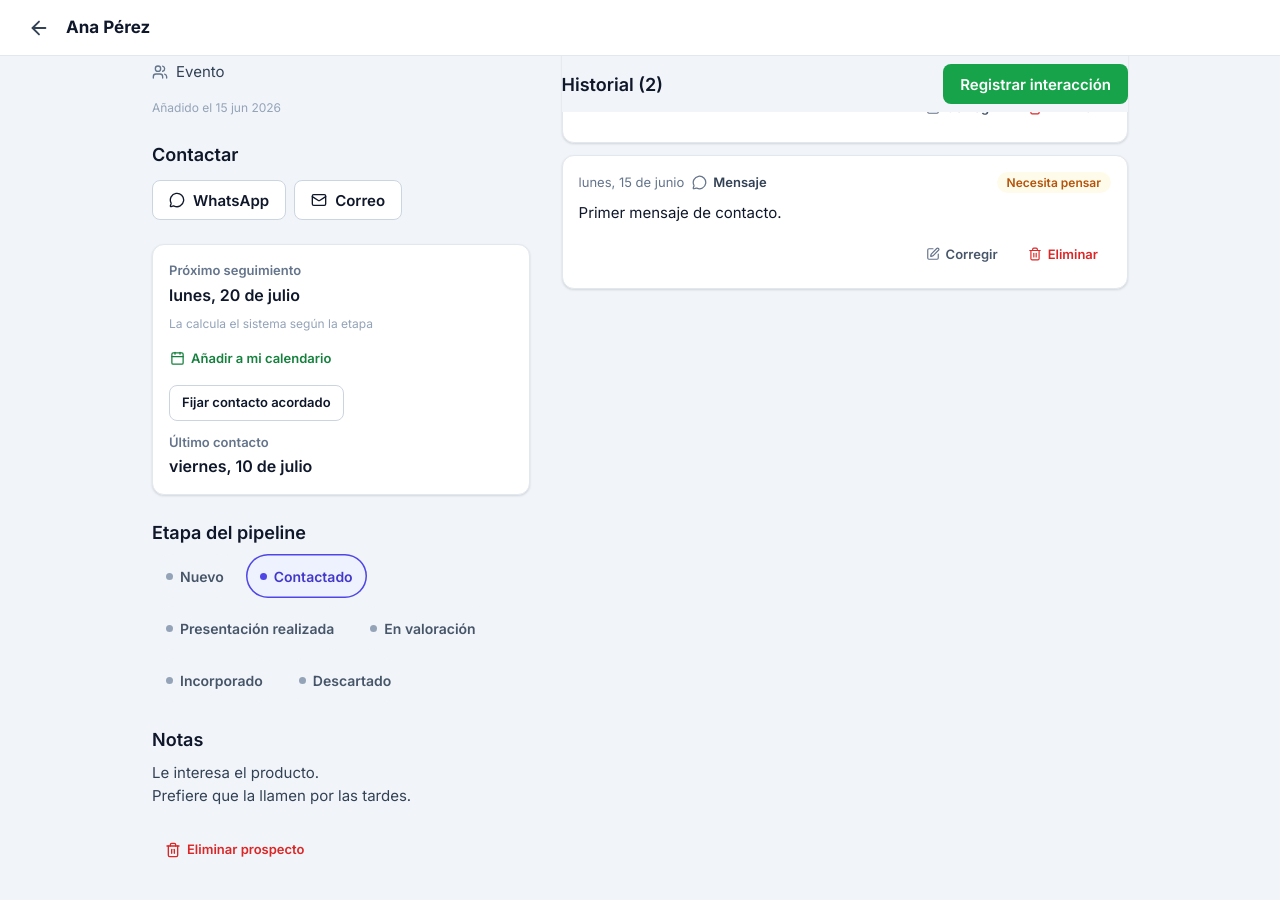
Scenario: eliminar prospecto (JOS-80) › rechazo ConvexError (otro código): diálogo con error accesible y REINTENTO; no navega ni flash
(page scrolled)
Click the button "Eliminar prospecto": [235, 850] box [152,832,317,868]
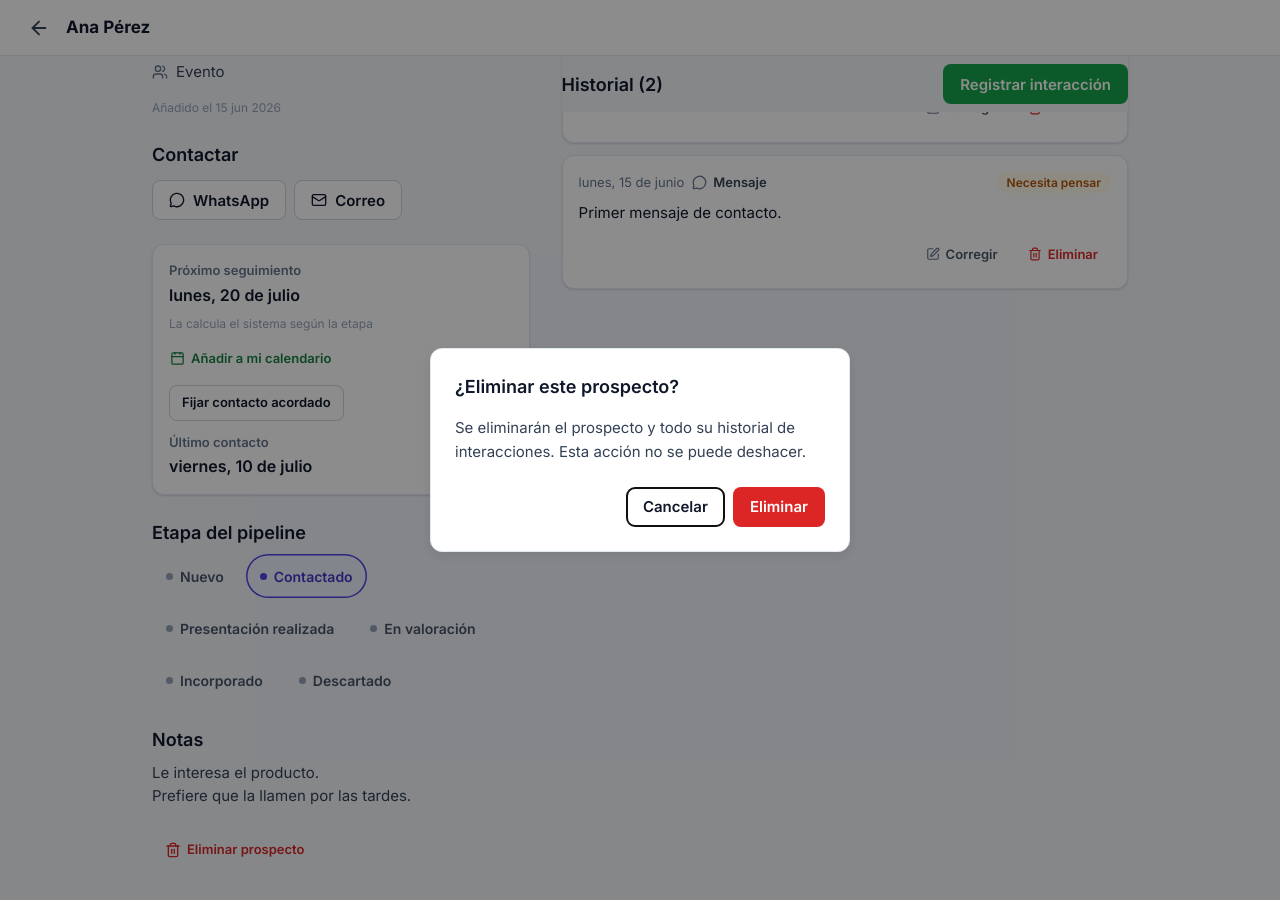
Click the button "Eliminar": [779, 507] box [733,487,825,527]
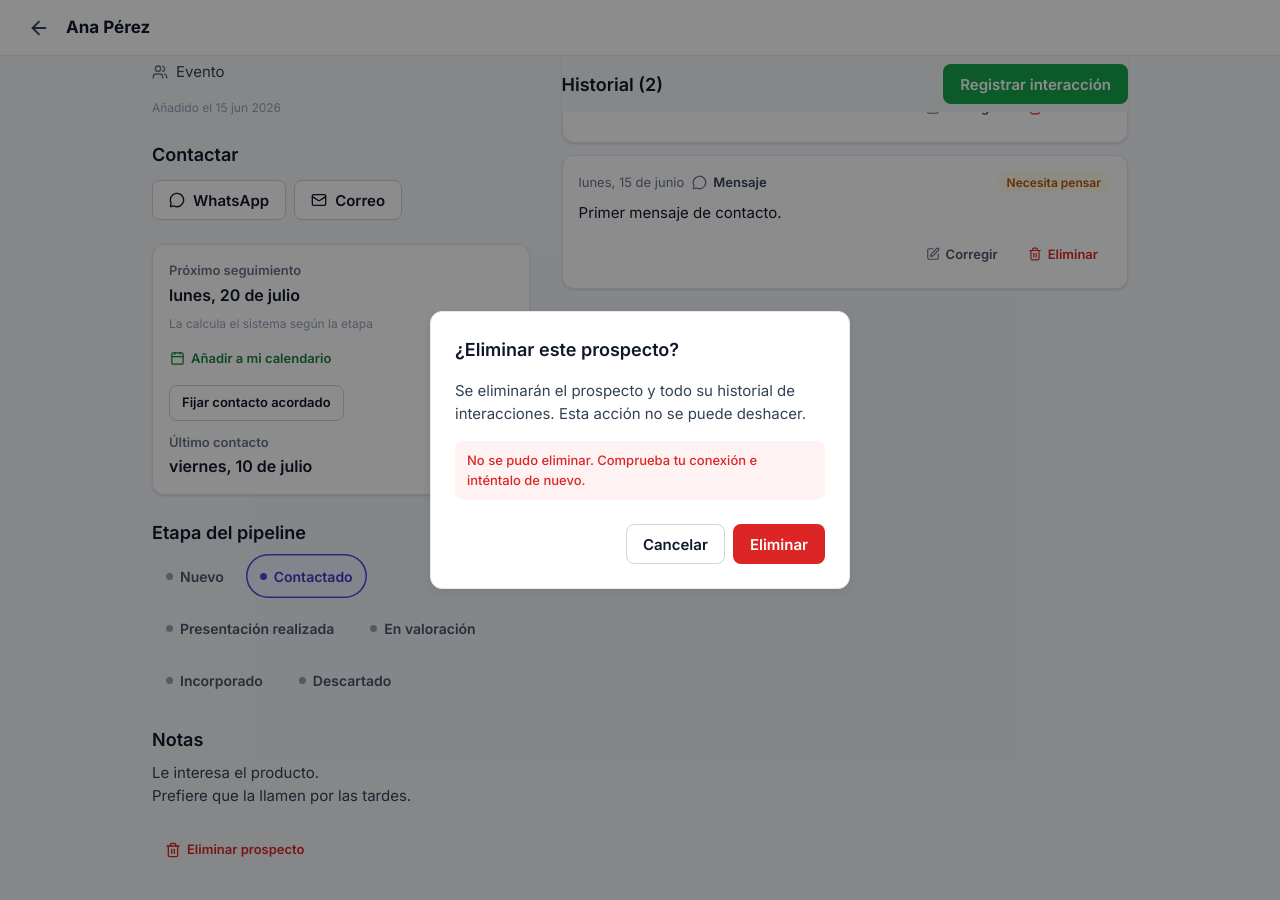
Result: the dialog is shown at [430,311,850,589]
Result: the button "Eliminar" is enabled at [733,524,825,564]
Result: the message reads "No se pudo eliminar. Comprueba tu conexión e inténtalo de nuevo." at [467,452,757,488]
